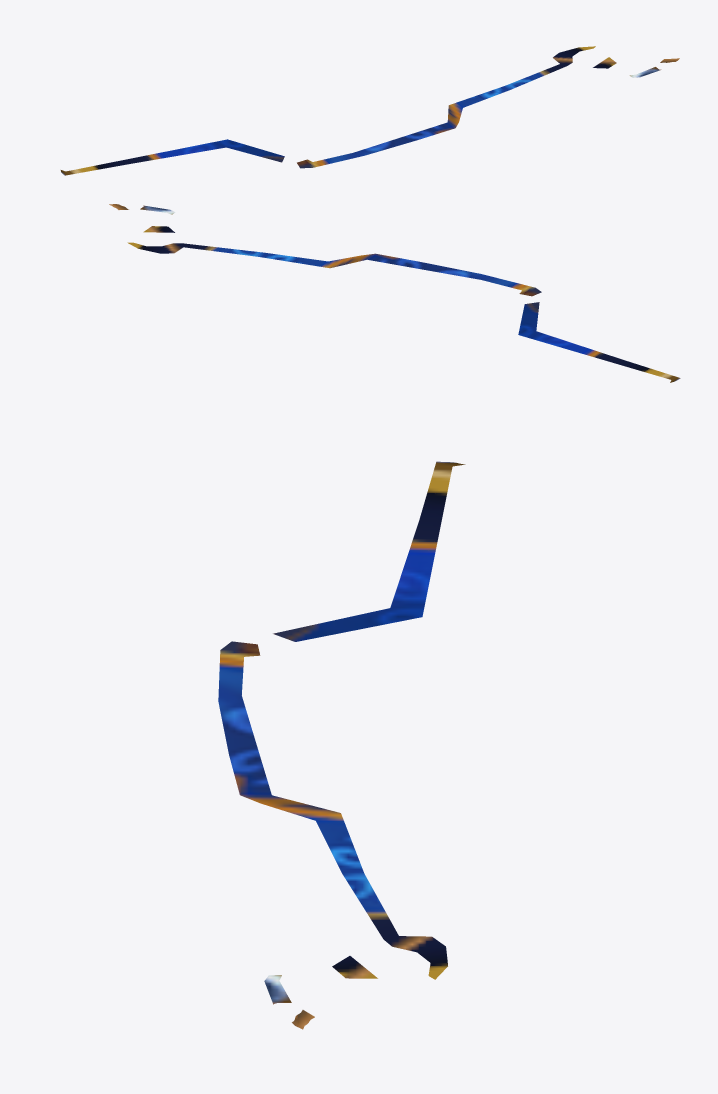
File: combat_icon_9_liuguang02.FBX
3 views of the same model, one above another, from view 1: azimuth 30°, elevation 25°; view 2: azimuth 150°, elevation 25°; view 3: azimuth 270°, elevation 25° (orthographic). The views are drawn at different scales.
Parts seen in each view (by area): view 1: combat_icon_9_liuguang02; view 2: combat_icon_9_liuguang02; view 3: combat_icon_9_liuguang02.
Part boxes in pixels (x1,y1,x2,y2): combat_icon_9_liuguang02: (60, 46, 679, 175); combat_icon_9_liuguang02: (109, 204, 680, 382); combat_icon_9_liuguang02: (218, 461, 465, 1029).
Size of the model in its own units: 79.53 by 4.1e-15 by 14.48.
